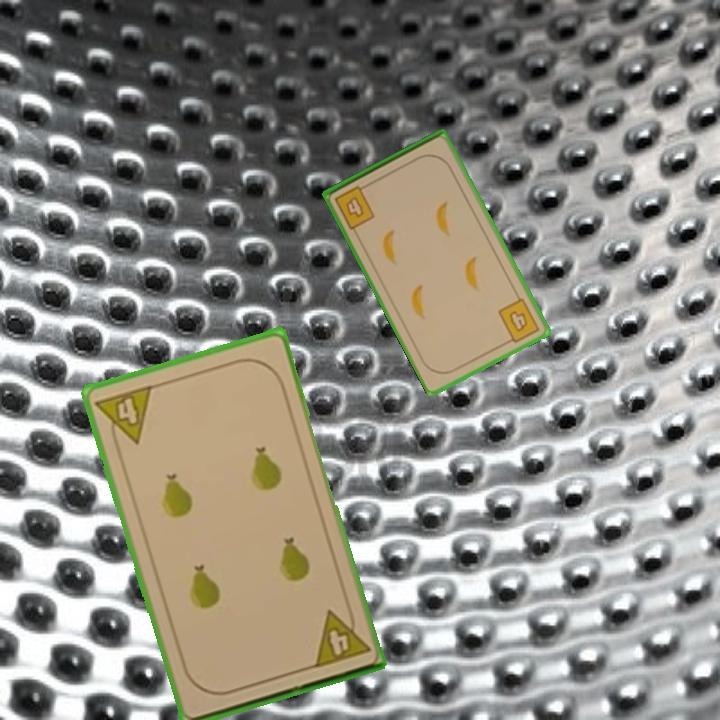4b: (494, 295, 543, 347), (331, 180, 378, 232)
4p: (92, 381, 155, 452), (309, 602, 373, 671)
